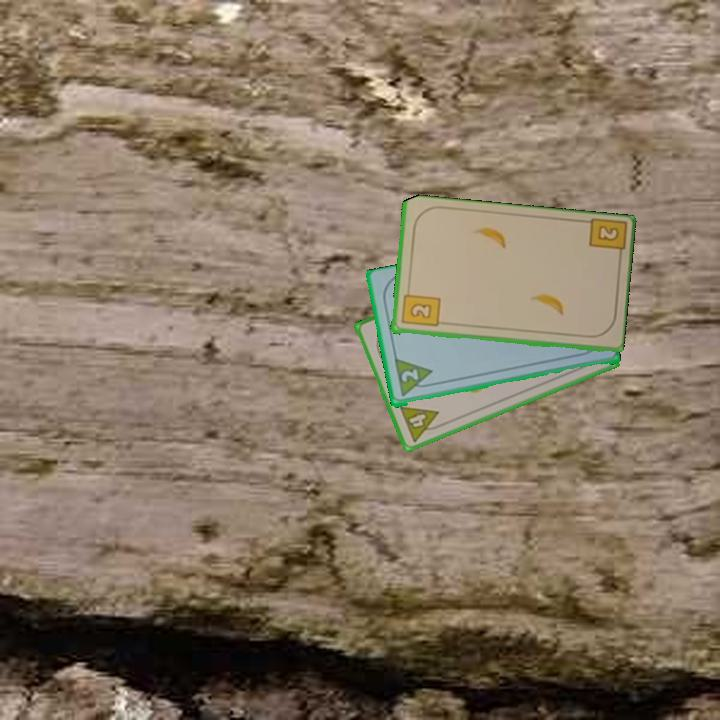2b: (585, 216, 627, 264), (398, 285, 442, 330)
2p: (391, 356, 437, 400)
4p: (396, 402, 446, 445)
